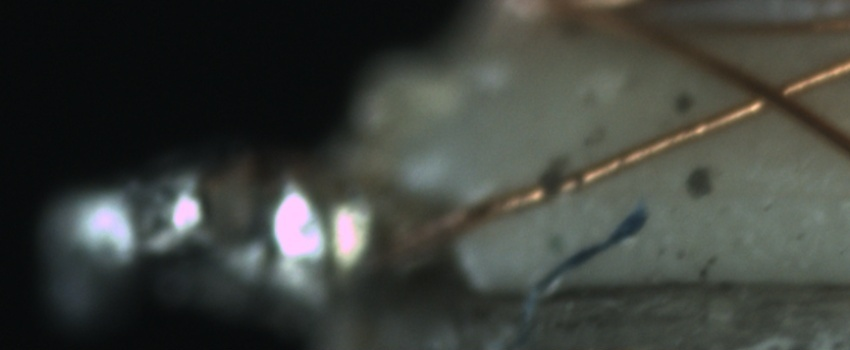CL: (724, 63, 813, 121)
